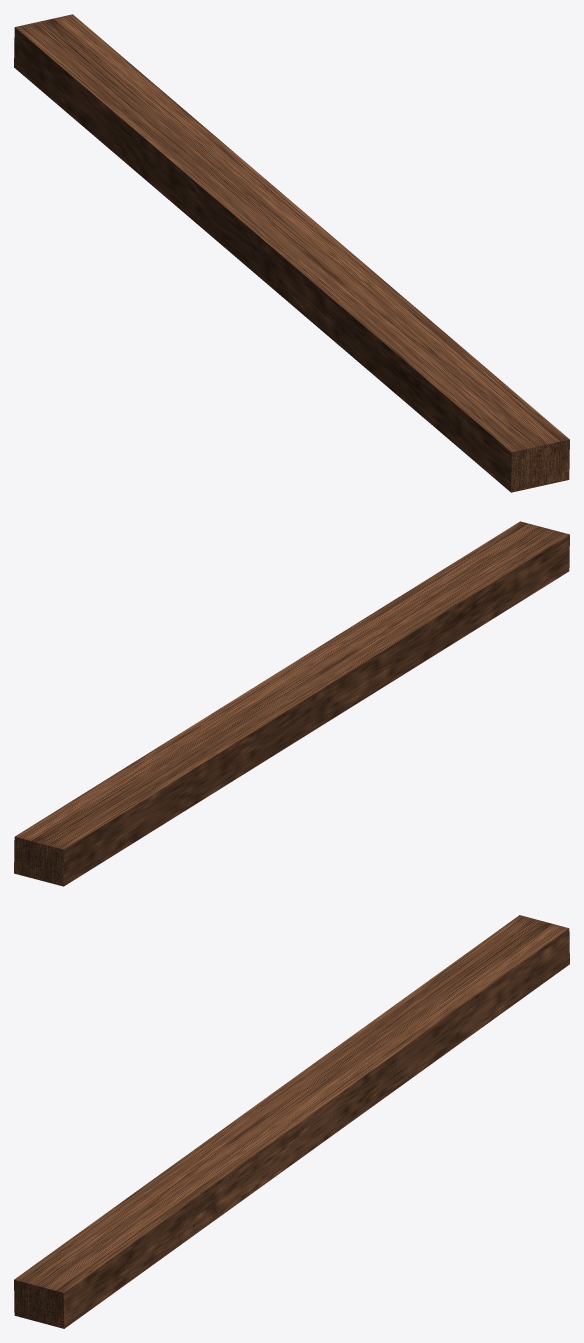
The model's file is Cortina03(vacia)_Fondo.fbx.
3 views of the same model, one above another, from view 1: azimuth 30°, elevation 25°; view 2: azimuth 150°, elevation 25°; view 3: azimuth 330°, elevation 25° (orthographic). The views are drawn at different scales.
Parts seen in each view (by area): view 1: Cube.009; view 2: Cube.009; view 3: Cube.009.
Boxes of the visible parts, x1,y1,x2,y2 form: Cube.009: (14, 14, 569, 492); Cube.009: (14, 521, 569, 886); Cube.009: (14, 915, 569, 1328).
Bounding box in the file's own units: 198 × 141 × 1995.
Materials: 1 (1 with a texture image).
